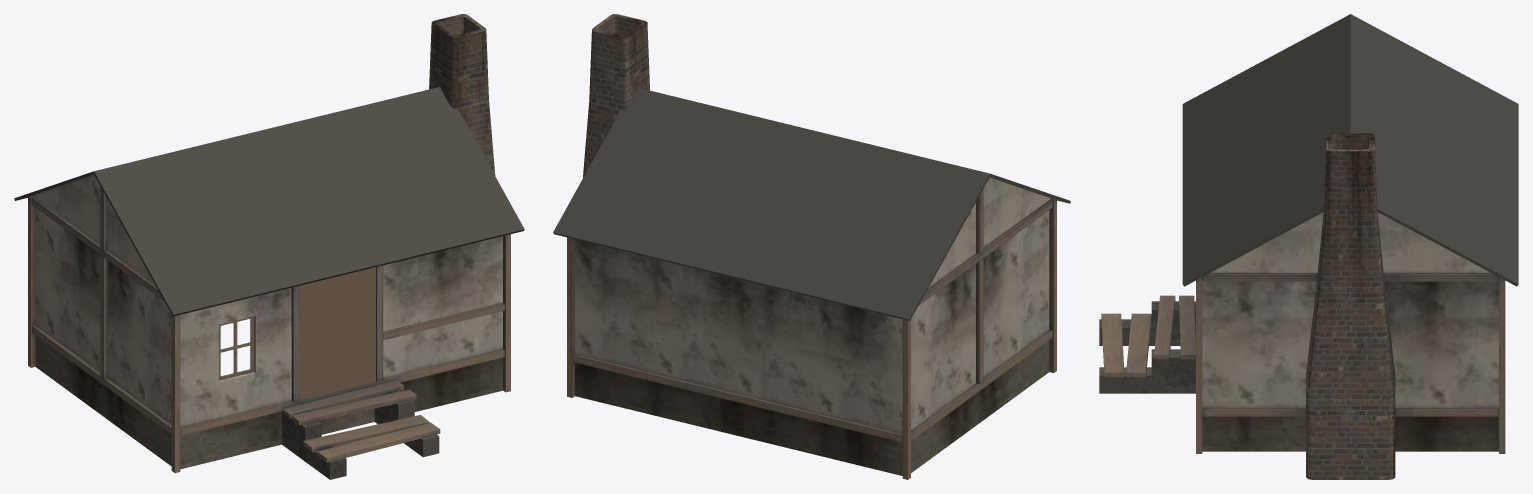
The model's file is camp-cabin.lod0.glb.
The picture shows the model from 3 angles, left to right: view 1: azimuth 30°, elevation 25°; view 2: azimuth 150°, elevation 25°; view 3: azimuth 270°, elevation 25°; orthographic projection. The views are drawn at different scales.
Visible parts, largest first — view 1: Object_3, Object_6, Object_7, Object_4, Object_2; view 2: Object_6, Object_3, Object_7, Object_4; view 3: Object_3, Object_6, Object_4, Object_7, Object_2.
Part boxes in pixels (bbox=[...]): Object_3: bbox=[14, 87, 524, 399]; Object_6: bbox=[35, 175, 502, 469]; Object_7: bbox=[28, 186, 510, 472]; Object_4: bbox=[429, 14, 495, 175]; Object_2: bbox=[281, 391, 439, 479]; Object_6: bbox=[575, 177, 1049, 475]; Object_3: bbox=[553, 88, 1070, 320]; Object_7: bbox=[567, 189, 1056, 479]; Object_4: bbox=[583, 14, 649, 177]; Object_3: bbox=[1182, 14, 1518, 286]; Object_6: bbox=[1202, 212, 1498, 451]; Object_4: bbox=[1306, 133, 1395, 479]; Object_7: bbox=[1101, 273, 1505, 453]; Object_2: bbox=[1099, 301, 1195, 393].
Bounding box in the file's own units: 10.5 × 7.8 × 9.18.
5 materials, 4 textured.
